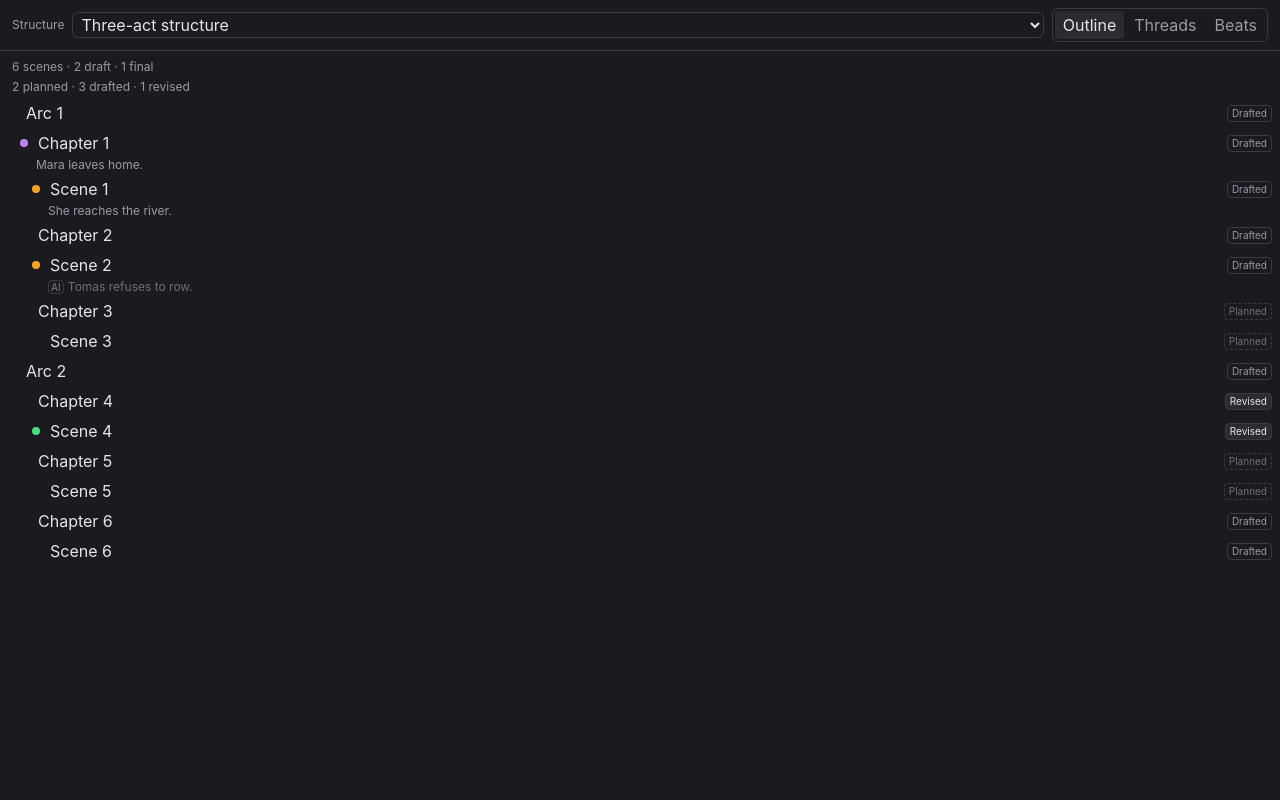
OutlineTab structure (F-11.1b) › reads the other template’s assignments after a switch
The width and height of the screenshot is (1280, 800).
Click the button "Beats" at (1236, 25), box x1=1206 y1=11 x2=1265 y2=39
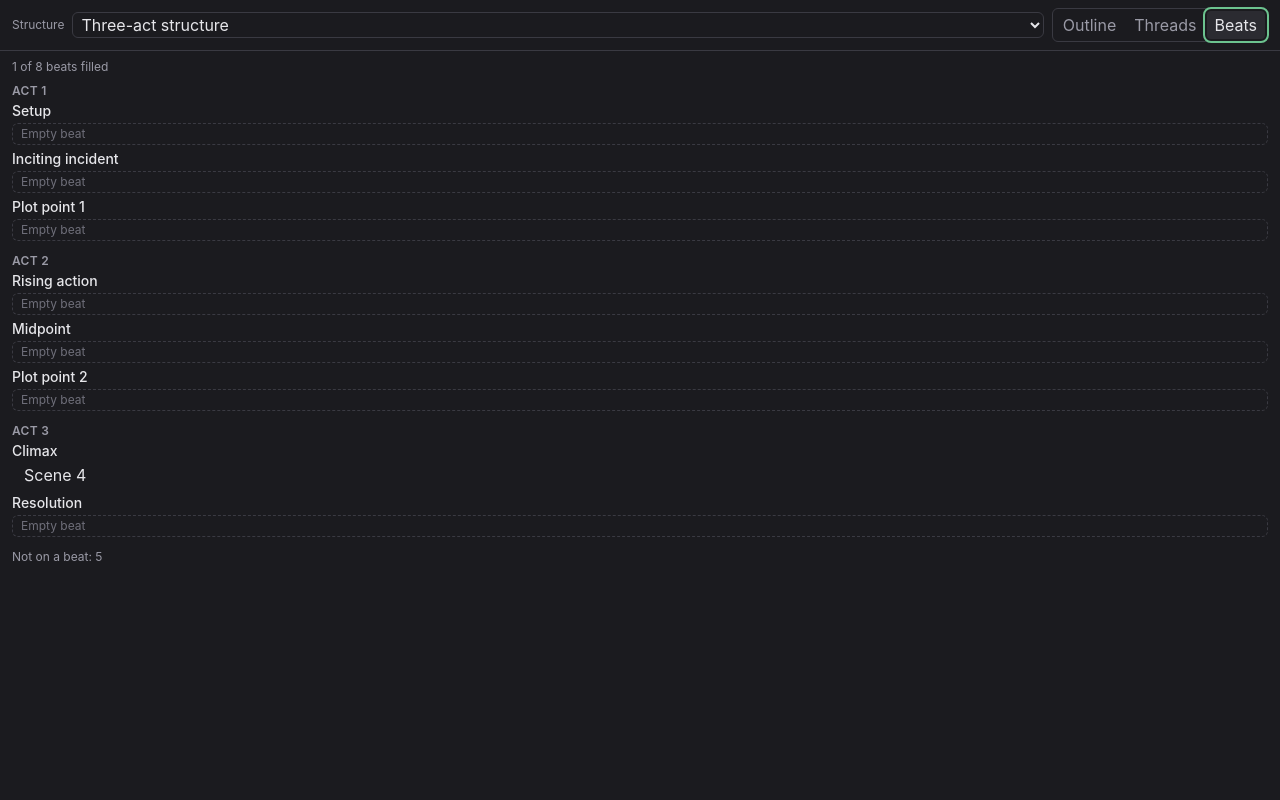
Expected: the button "Scene 4" is shown, x1=20 y1=461 x2=90 y2=489
Expected: the text with test id "beat-counts" reads "1 of 8 beats filled", x1=12 y1=59 x2=108 y2=74
